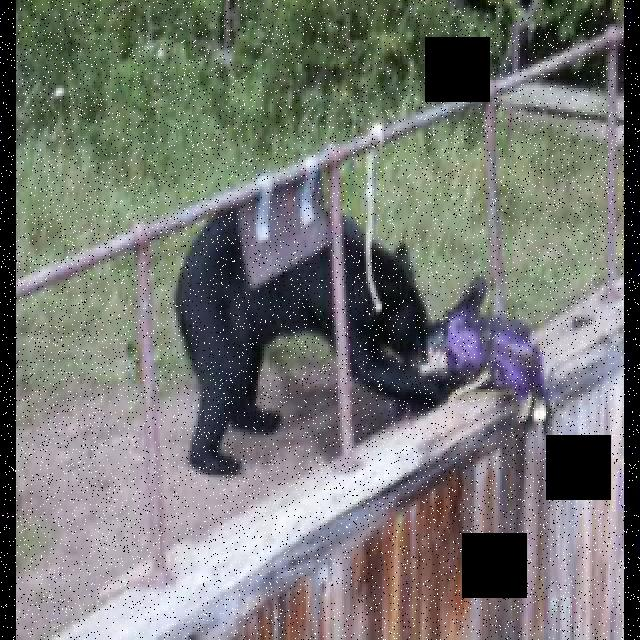Bear: (161, 176, 441, 444)
